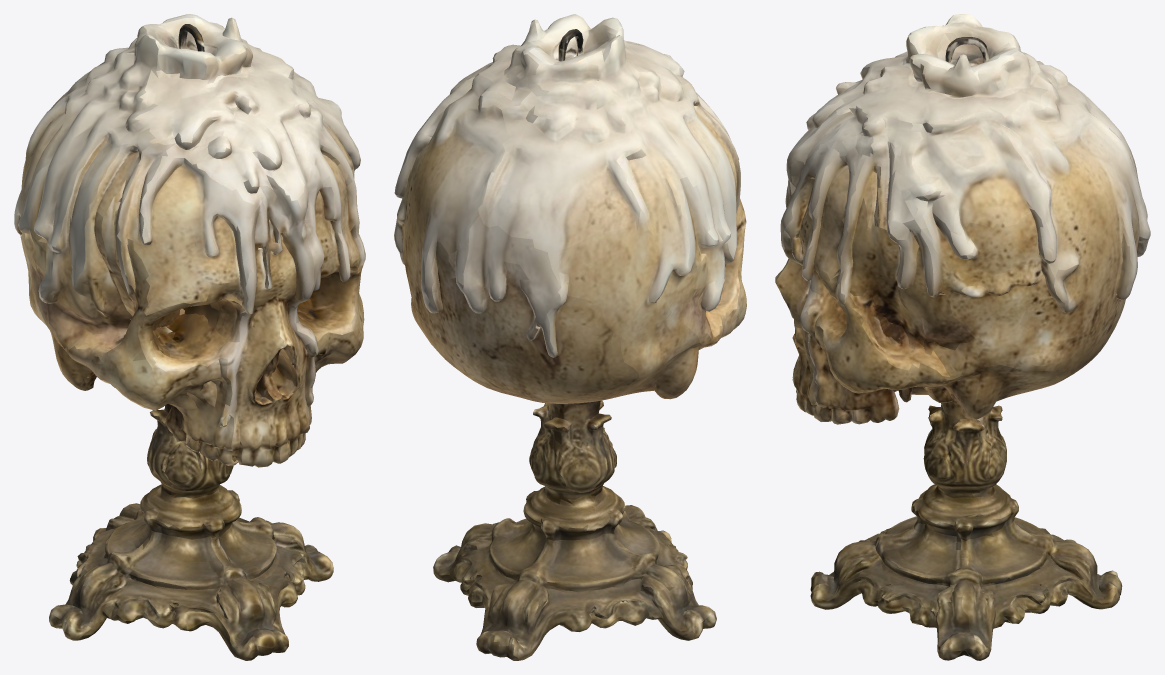
File: relic_skull.glb
The picture shows the model from 3 angles, left to right: view 1: azimuth 30°, elevation 25°; view 2: azimuth 150°, elevation 25°; view 3: azimuth 270°, elevation 25°; orthographic projection.
Visible parts, largest first — view 1: geometry_0; view 2: geometry_0; view 3: geometry_0.
Part boxes in pixels (box(x1,y1,x2,y2)): geometry_0: box(14, 14, 365, 660); geometry_0: box(394, 14, 746, 660); geometry_0: box(775, 14, 1150, 660).
Bounding box in the file's own units: 0.1721 × 0.32 × 0.1925.
1 material, 1 textured.
